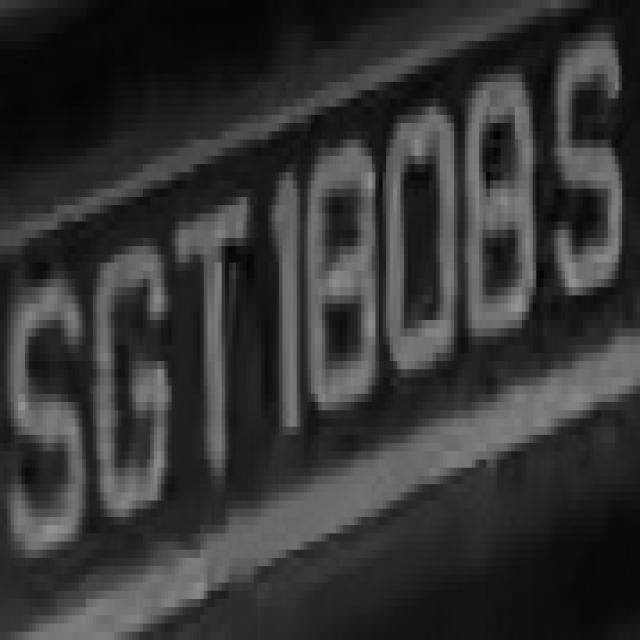0: (372, 90, 465, 410)
1: (264, 140, 308, 468)
8: (461, 49, 540, 386), (304, 131, 379, 435)
G: (93, 222, 179, 542)
S: (7, 254, 93, 624), (547, 16, 626, 312)
T: (154, 172, 257, 484)
